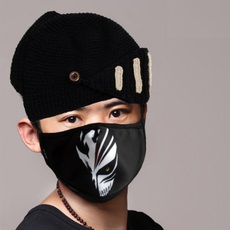face_mask: (37, 84, 146, 201)
